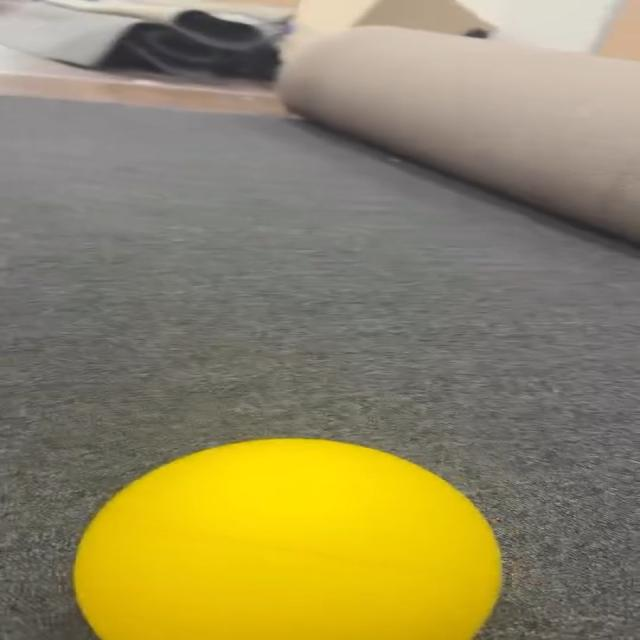Fuels: (73, 439, 492, 637)
